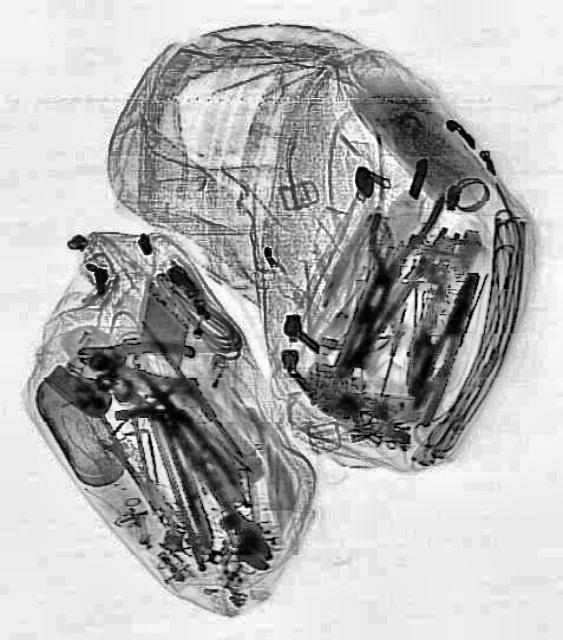Pliers: (400, 264, 488, 430), (352, 176, 446, 300), (75, 332, 198, 390)
Wrench: (174, 442, 280, 580), (107, 371, 177, 432)
